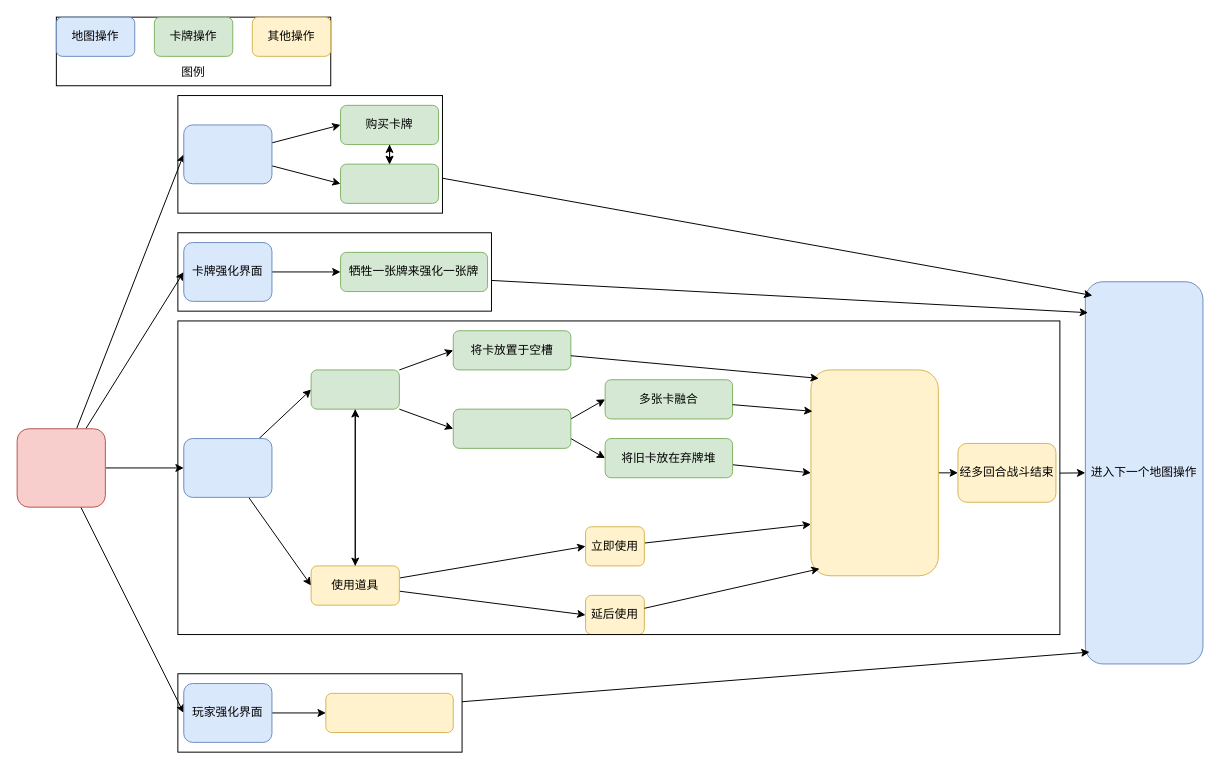
Image size: 1220x769. Some labels were removed from this diagram. The centre of each missing label's shape, as x and y in pixels:
商店界面: the point at 227,154
将卡放置于非空槽: the point at 511,428
战斗界面: the point at 227,467
抽牌: the point at 354,389
玩家: the point at 60,467
结束自己回合: the point at 874,472
获取插件（多选一）: the point at 389,712
购买道具: the point at 389,183
